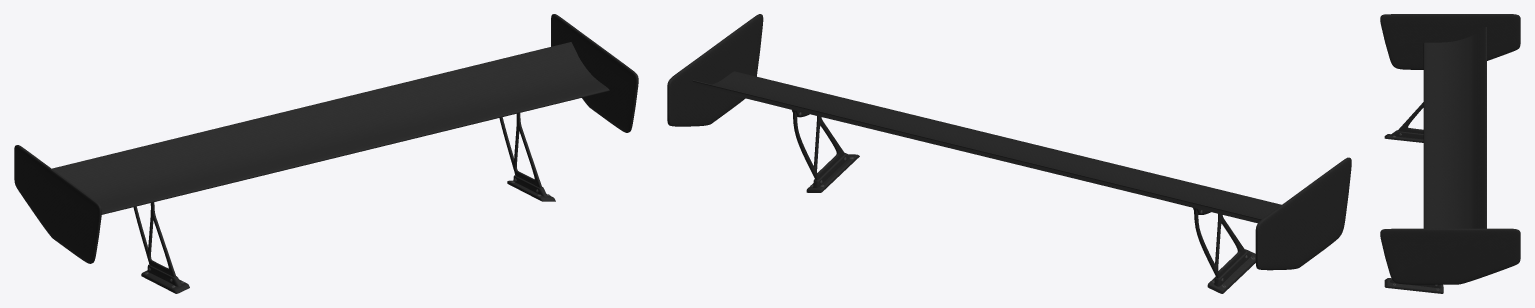
The model's file is Spoiler.glb.
3 renders of one model, left to right at view 1: azimuth 30°, elevation 25°; view 2: azimuth 150°, elevation 25°; view 3: azimuth 270°, elevation 25°, orthographic. The views are drawn at different scales.
Visible parts, largest first — view 1: Spojler; view 2: Spojler; view 3: Spojler.
Part boxes in pixels (<box>): Spojler: <box>14,14,638,293</box>; Spojler: <box>667,14,1351,293</box>; Spojler: <box>1380,14,1520,293</box>.
Size of the model in its own units: 4.62 by 0.9622 by 1.27.
Materials: 2 (1 with a texture image).
